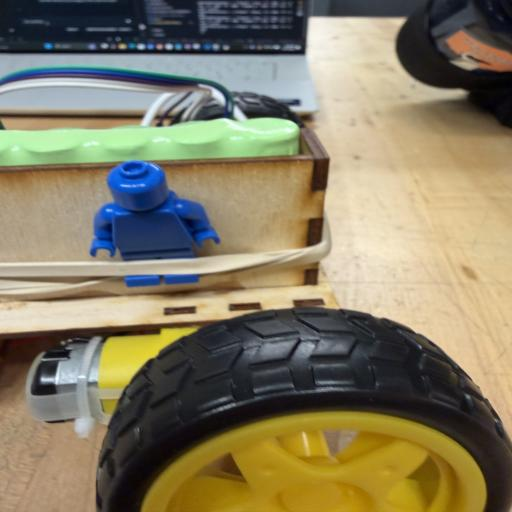Blue-Lego: (90, 160, 220, 261), (124, 273, 199, 287)
